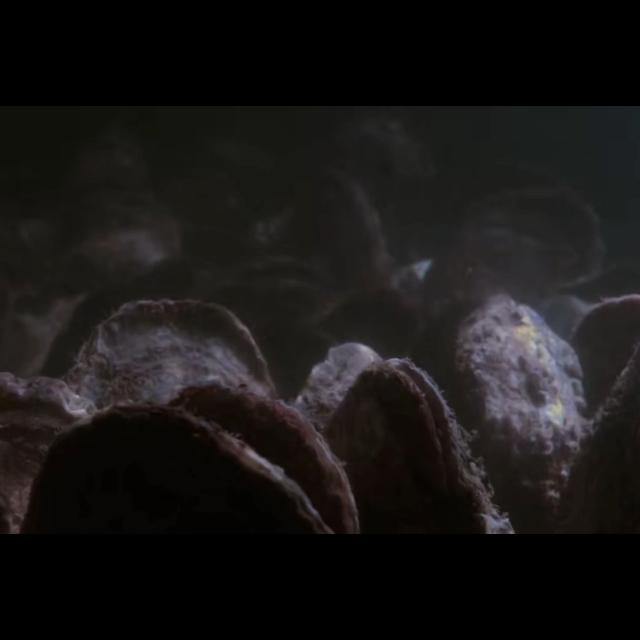Oyster-Closed: (62, 298, 278, 534), (22, 404, 332, 534), (450, 295, 590, 535), (168, 383, 358, 535), (421, 183, 607, 337), (293, 343, 385, 535), (0, 372, 100, 534), (306, 165, 394, 303), (568, 294, 640, 441), (68, 202, 184, 288)
Oyster-Open: (322, 358, 512, 534), (218, 251, 336, 309)
